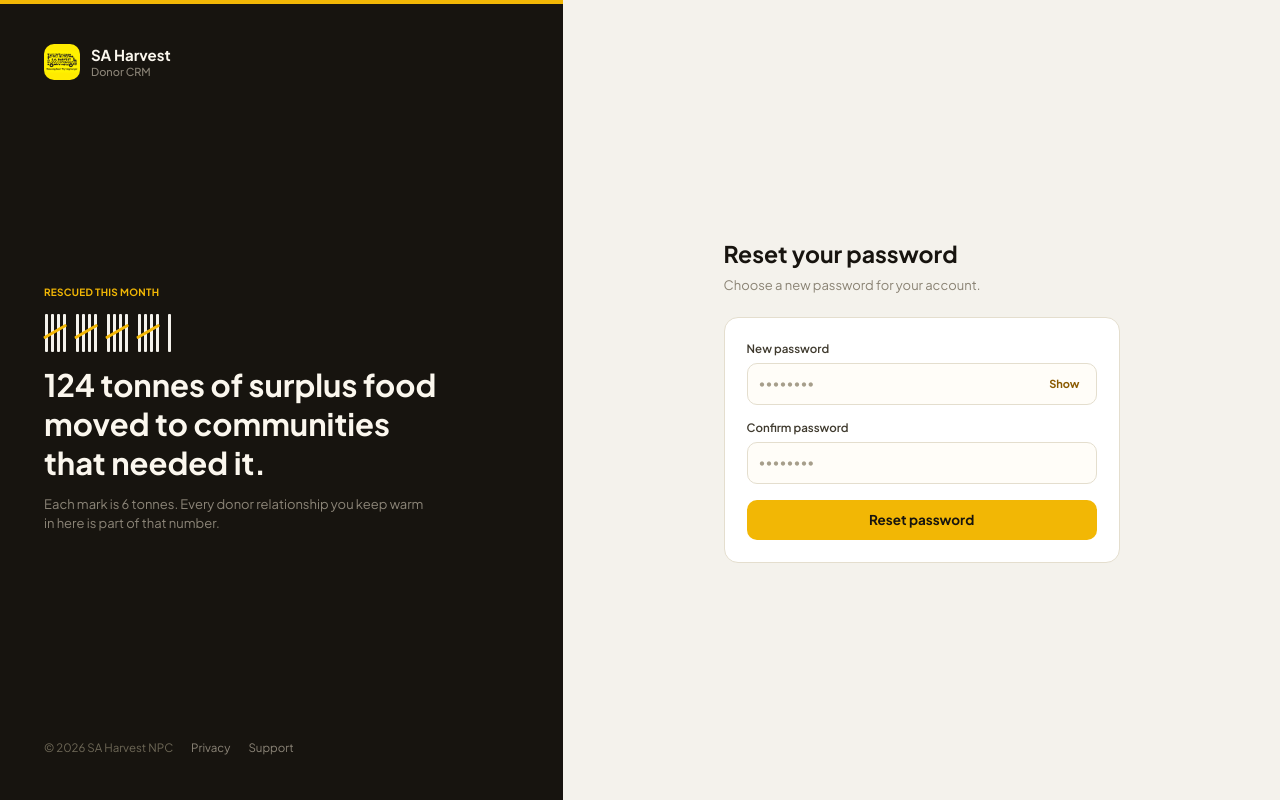
Scenario: ResetPasswordPage › Failed reset with generic/network error → shows generic error message
Type "Str0ng!Pass" into the 1st password field with placeholder "••••••••" at (895, 384), box top-left (748, 364), bottom-right (1043, 404)
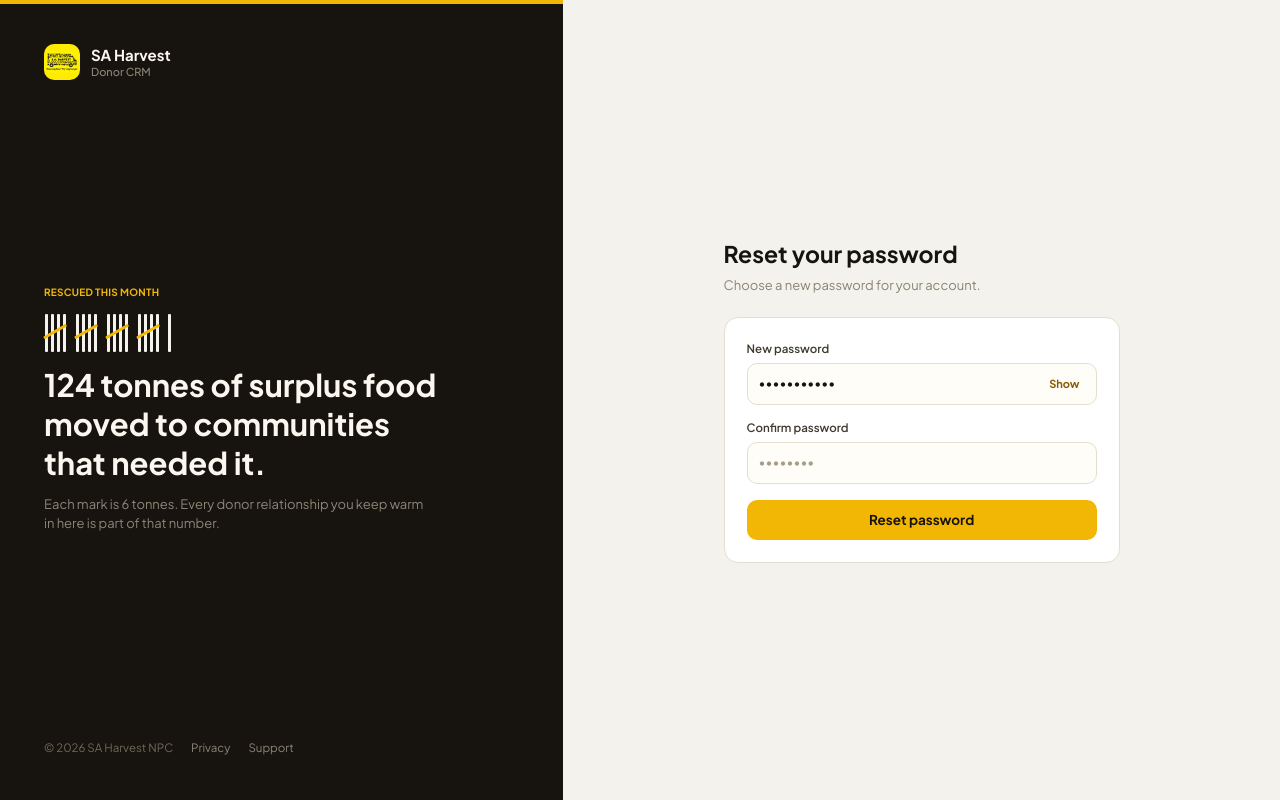
Type "Str0ng!Pass" into the password field with placeholder "••••••••" at (922, 463), box top-left (747, 442), bottom-right (1097, 484)
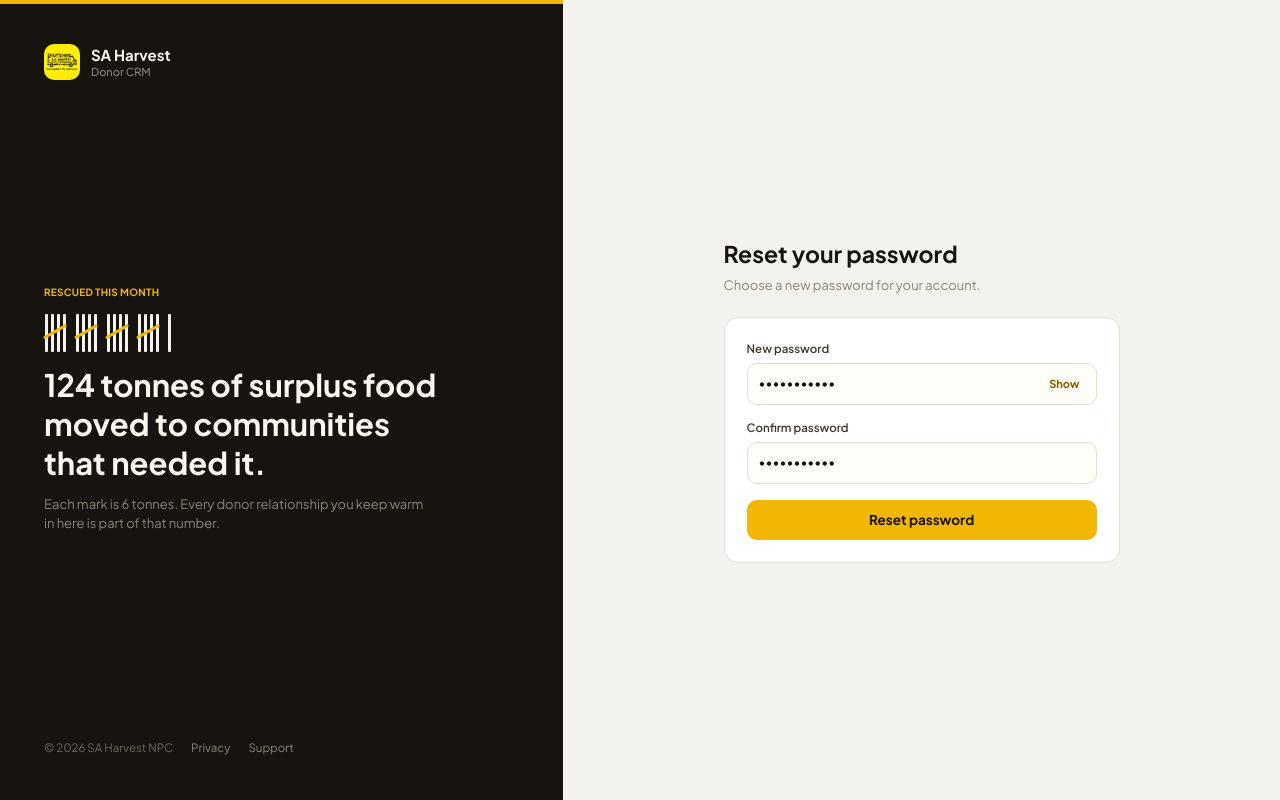
Click the button "Reset password" at (922, 520), box top-left (747, 500), bottom-right (1097, 540)
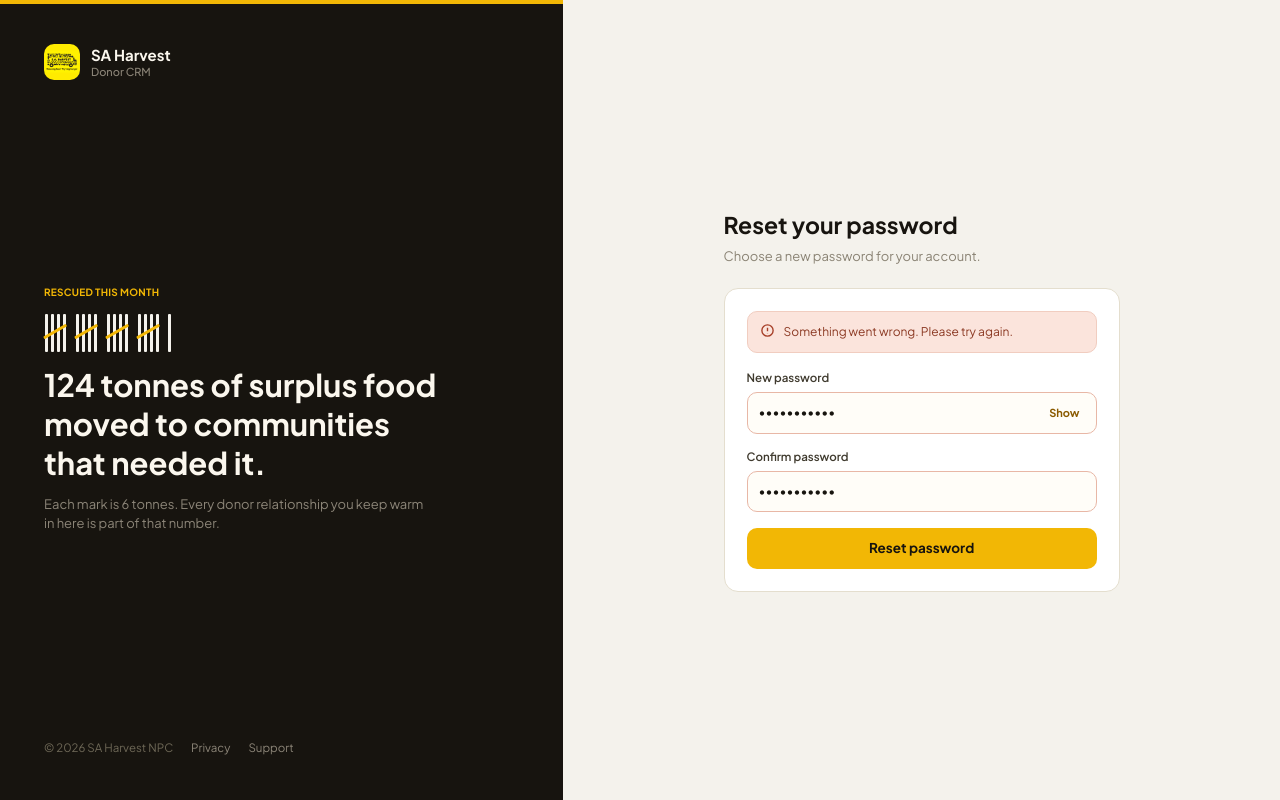
Check: the text "Something went wrong. Please try again." is shown, box top-left (784, 322), bottom-right (1013, 342)
